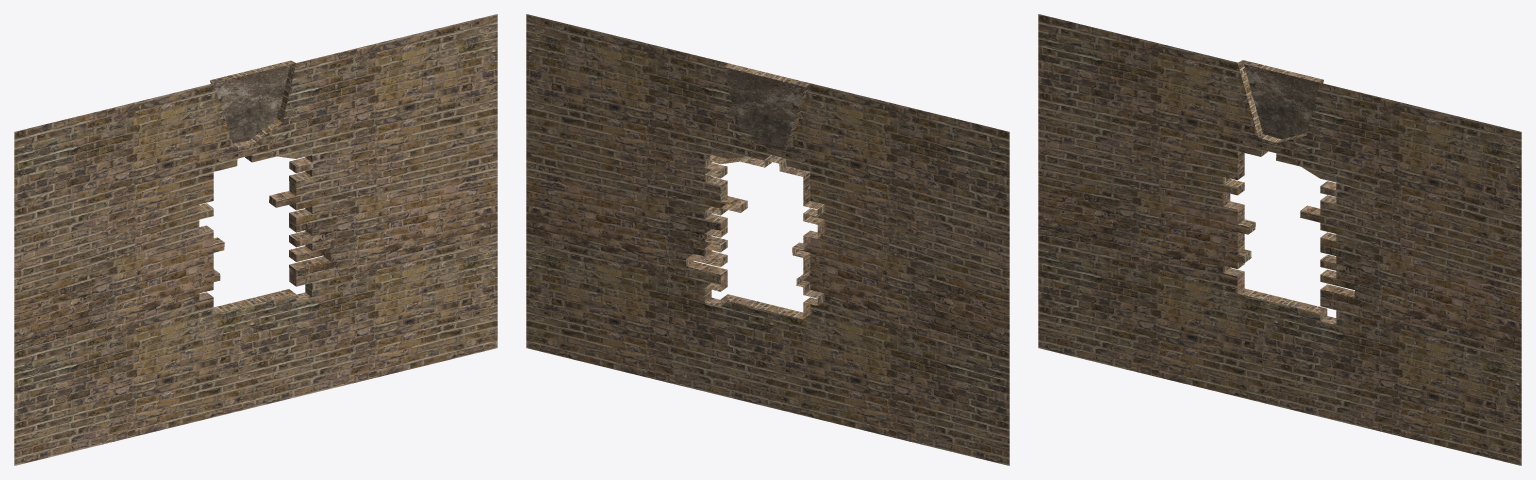
The model's file is Basement_Upper_Wall.fbx.
3 views of the same model, side by side, from view 1: azimuth 30°, elevation 25°; view 2: azimuth 150°, elevation 25°; view 3: azimuth 330°, elevation 25° (orthographic).
Parts seen in each view (by area): view 1: Basement_Upper_Wall; view 2: Basement_Upper_Wall; view 3: Basement_Upper_Wall.
Boxes of the visible parts, left/top/right/bottom form: Basement_Upper_Wall: left=14, top=14, right=497, bottom=465; Basement_Upper_Wall: left=526, top=14, right=1009, bottom=465; Basement_Upper_Wall: left=1038, top=14, right=1521, bottom=465.
Bounding box in the file's own units: 10 × 6.61 × 0.2525.
